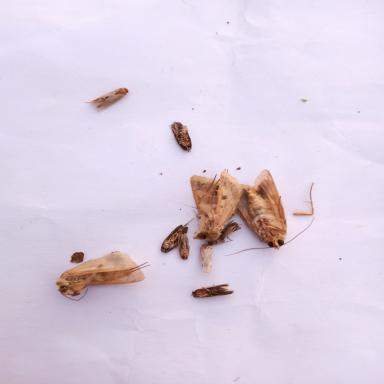abw: (228, 166, 318, 260), (52, 252, 153, 300), (186, 172, 242, 238)
pbw: (90, 85, 130, 112), (160, 220, 190, 255), (168, 120, 196, 152), (211, 223, 246, 248), (188, 283, 238, 300), (197, 243, 214, 275), (178, 233, 190, 260)
